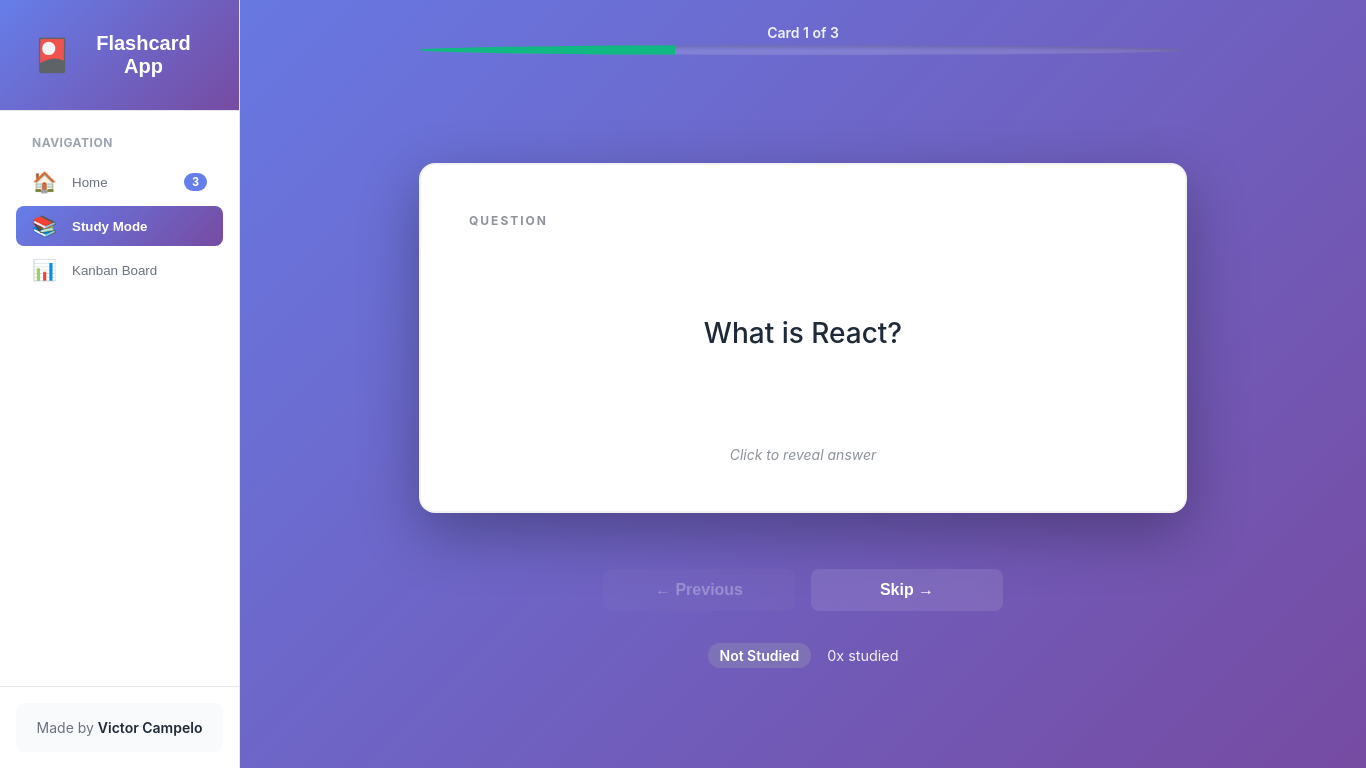
Scenario: Study › Card Flipping › shows difficulty buttons when card is flipped
expect the text "What is React?" is shown: met, box [704,316,902,350]
// Flip card
Click the element with test id "study-card": [803, 338] box [419,163,1187,513]
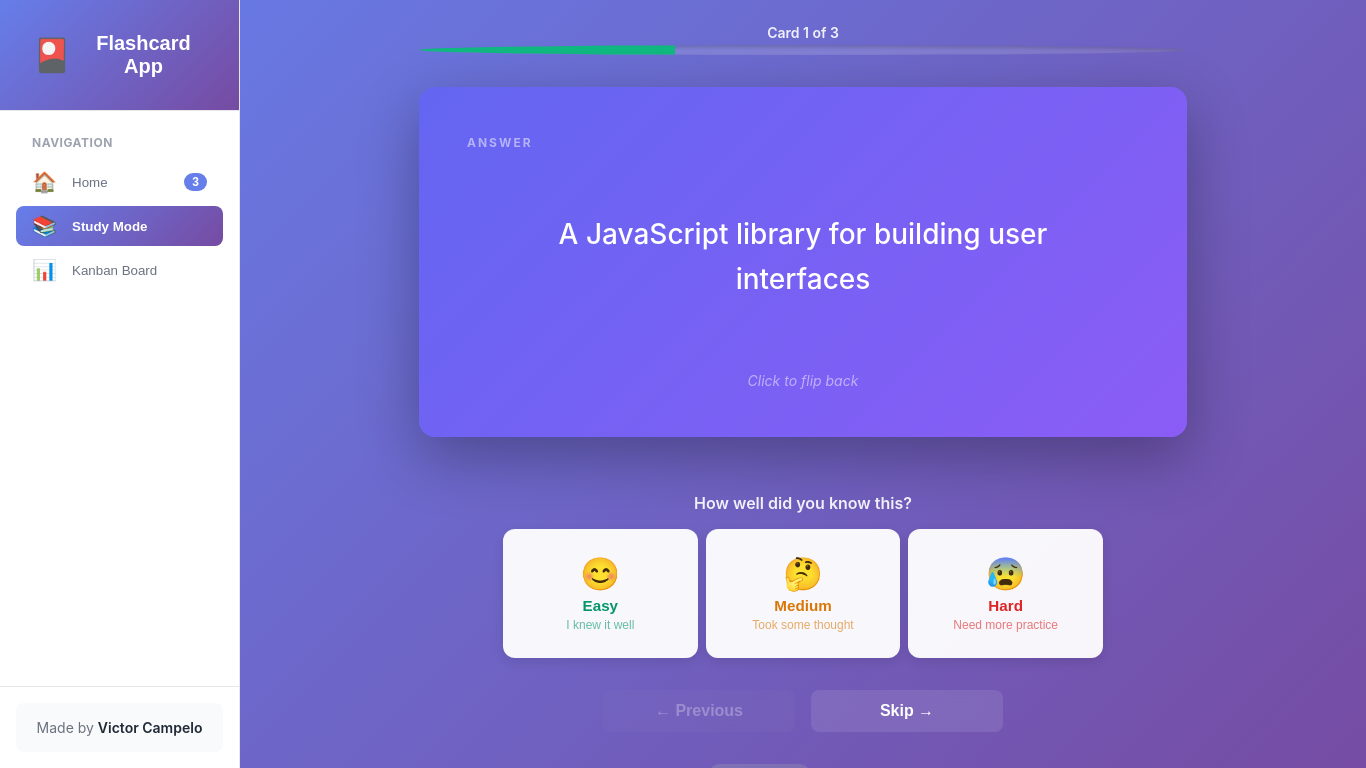
expect the element with test id "difficulty-buttons" is shown: met, box [503,493,1103,658]
expect the button with test id "btn-easy" is shown: met, box [503,529,698,658]
expect the button with test id "btn-medium" is shown: met, box [706,529,900,658]
